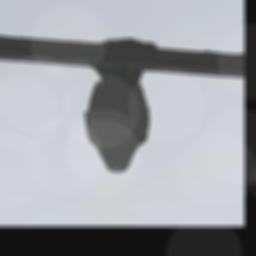Crow: (82, 38, 156, 174)
